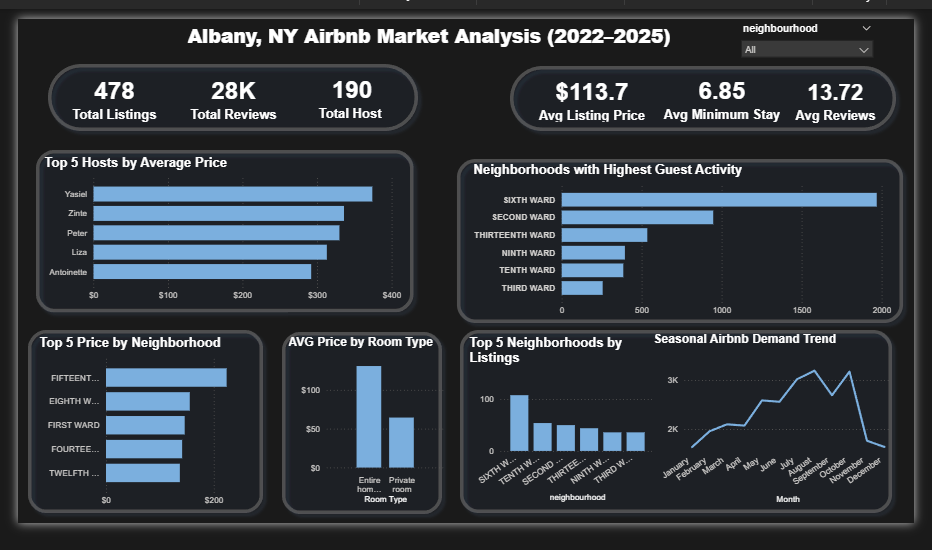

The page's visual inventory and layout, read from the dashboard file:
{"tool":"powerbi","page":{"name":"Page 1","canvas":[1280,720],"ordinal":0},"visuals":[{"type":"group","id":"g1","title":"Group 1","box":[1.6,51.4,1276.1,666.5],"z":0},{"type":"shape","box":[29.7,51.4,554.3,121.4],"z":0,"group":"g1"},{"type":"card","fields":{"Values":["Count(listings.id)"]},"box":[38.6,67.1,198.6,88.6],"z":1000},{"type":"shape","box":[13.2,174.5,565,257.5],"z":1000,"group":"g1"},{"type":"textbox","box":[237.1,0,717.1,65.7],"z":2000},{"type":"shape","box":[689.7,53.9,577.1,118.6],"z":2000,"group":"g1"},{"type":"slicer","fields":{"Values":["listings.neighbourhood"]},"box":[1022.9,0,208.6,65.7],"z":3000},{"type":"shape","box":[614.9,186.5,662.9,260],"z":4000,"group":"g1"},{"type":"barChart","title":"Top 5 Hosts by Average Price","fields":{"Category":["listings.host_name"],"Y":["Avg(listings.price)"]},"box":[32.9,194.3,520,215.7],"z":4000},{"type":"shape","box":[619.2,430.8,642.9,287.1],"z":5000,"group":"g1"},{"type":"barChart","title":"Top 5 Price by Neighborhood","fields":{"Category":["listings.neighbourhood"],"Y":["Avg(listings.price)"]},"box":[25.7,451.4,350,251.4],"z":5000},{"type":"shape","box":[1.6,430.8,361.4,287.1],"z":6000,"group":"g1"},{"type":"shape","box":[364.3,434.3,254.3,285.7],"z":6000},{"type":"clusteredBarChart","title":"Neighborhoods with Highest Guest Activity","fields":{"Category":["listings.neighbourhood"],"Y":["Sum(listings.number_of_reviews_ltm)"]},"box":[645.7,204.3,607.1,227.1],"z":7000},{"type":"columnChart","title":"Top 5 Neighborhoods by Listings","fields":{"Category":["listings.neighbourhood"],"Y":["CountNonNull(listings.id)"]},"box":[640,451.4,274.3,244.3],"z":8000},{"type":"clusteredColumnChart","title":"AVG Price by Room Type","fields":{"Category":["listings.room_type"],"Y":["Avg(listings.price)"]},"box":[381.4,451.4,232.9,245.7],"z":9000},{"type":"card","fields":{"Values":["Count(listings.host_id)"]},"box":[375.7,64.3,202.9,90],"z":10000},{"type":"card","fields":{"Values":["Avg(listings.minimum_nights)"]},"box":[914.3,67.1,182.9,88.6],"z":11000},{"type":"card","fields":{"Values":["Avg(listings.price)"]},"box":[737.1,72.9,165.7,78.6],"z":12000},{"type":"card","fields":{"Values":["Avg(listings.number_of_reviews_ltm)"]},"box":[1082.9,67.1,170,92.9],"z":13000},{"type":"card","fields":{"Values":["Sum(listings.number_of_reviews)"]},"box":[208.6,67.1,198.6,88.6],"z":14000},{"type":"lineChart","title":"Seasonal Airbnb Demand Trend","fields":{"Category":["reviews.date.Variation.Date Hierarchy.Month"],"Y":["CountNonNull(reviews.listing_id)"]},"box":[902.9,447.1,350,250],"z":15000}]}

Visuals, with their boxes on the page's 1280x720 design canvas (x1, y1, x2, y2). These are canvas units, not pixel positions in the 932x550 screenshot, which may show the page scaled, cropped or inside an application window:
"Group 1" group: rect(2, 51, 1278, 718)
shape: rect(30, 51, 584, 173)
card - Count(listings.id): rect(39, 67, 237, 156)
shape: rect(13, 174, 578, 432)
textbox: rect(237, 0, 954, 66)
shape: rect(690, 54, 1267, 172)
slicer - listings.neighbourhood: rect(1023, 0, 1232, 66)
shape: rect(615, 186, 1278, 446)
"Top 5 Hosts by Average Price" barChart: rect(33, 194, 553, 410)
shape: rect(619, 431, 1262, 718)
"Top 5 Price by Neighborhood" barChart: rect(26, 451, 376, 703)
shape: rect(2, 431, 363, 718)
shape: rect(364, 434, 619, 720)
"Neighborhoods with Highest Guest Activity" clusteredBarChart: rect(646, 204, 1253, 431)
"Top 5 Neighborhoods by Listings" columnChart: rect(640, 451, 914, 696)
"AVG Price by Room Type" clusteredColumnChart: rect(381, 451, 614, 697)
card - Count(listings.host_id): rect(376, 64, 579, 154)
card - Avg(listings.minimum_nights): rect(914, 67, 1097, 156)
card - Avg(listings.price): rect(737, 73, 903, 152)
card - Avg(listings.number_of_reviews_ltm): rect(1083, 67, 1253, 160)
card - Sum(listings.number_of_reviews): rect(209, 67, 407, 156)
"Seasonal Airbnb Demand Trend" lineChart: rect(903, 447, 1253, 697)
